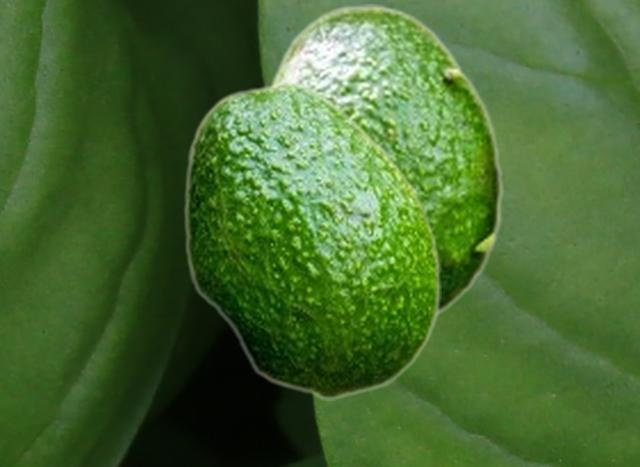avocado: (182, 79, 440, 399), (265, 4, 503, 319)
